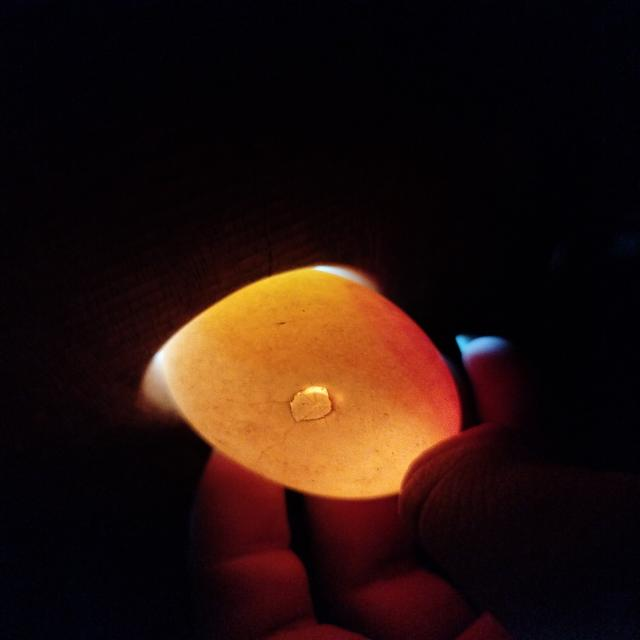Rachadura: (289, 385, 333, 423)
